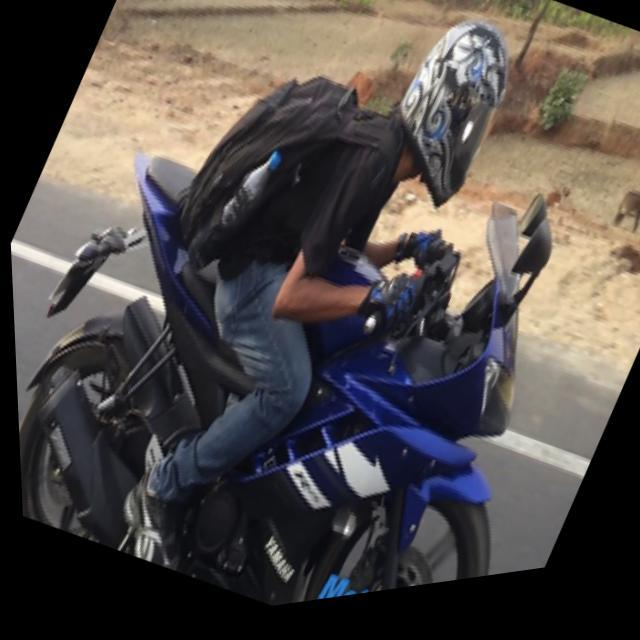Helmet: (394, 0, 512, 211)
